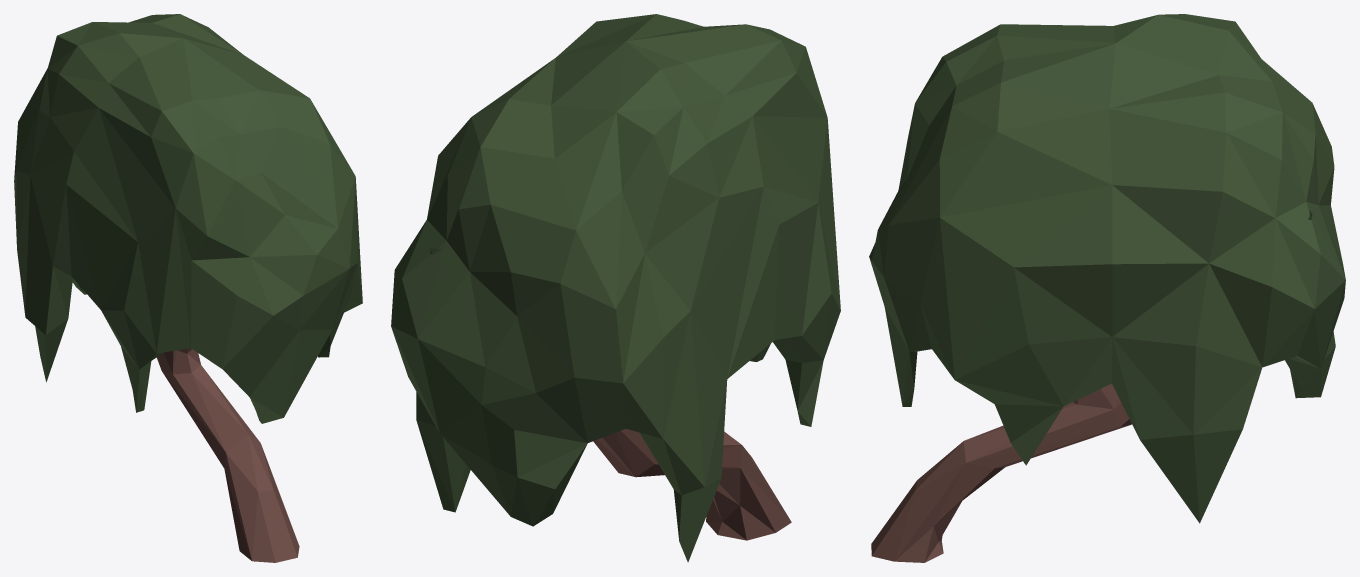
File: Willow_3.lod1.glb
3 renders of one model, left to right at view 1: azimuth 30°, elevation 25°; view 2: azimuth 150°, elevation 25°; view 3: azimuth 270°, elevation 25°, orthographic. The views are drawn at different scales.
Parts seen in each view (by area): view 1: Willow_3; view 2: Willow_3; view 3: Willow_3.
Boxes of the visible parts, x1=… form: Willow_3: x1=14, y1=14, x2=362, y2=562; Willow_3: x1=391, y1=14, x2=840, y2=562; Willow_3: x1=869, y1=14, x2=1345, y2=562.
Bounding box in the file's own units: 1.32 × 2.35 × 1.98.
